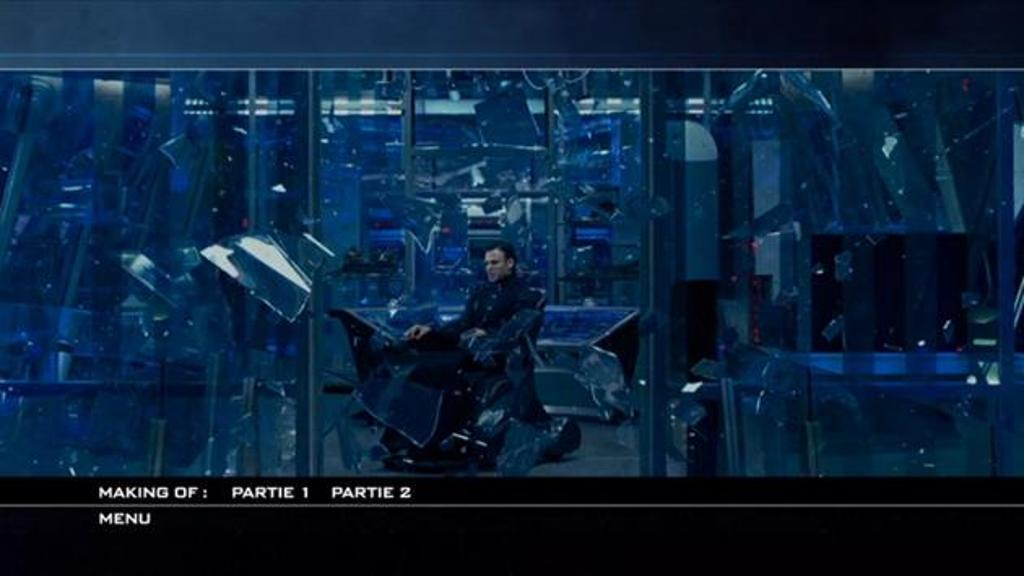face: (485, 253, 507, 283)
